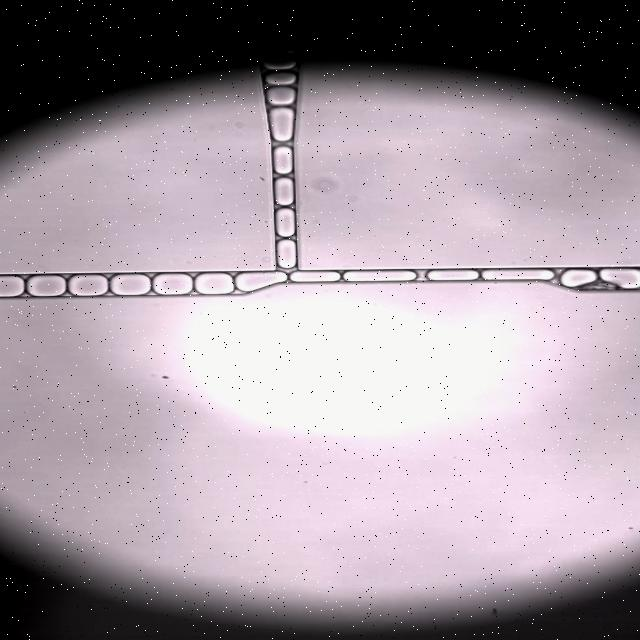L: (268, 107, 295, 141), (560, 270, 596, 288), (426, 270, 478, 281), (265, 87, 295, 106), (273, 146, 293, 174), (275, 209, 295, 237), (290, 271, 340, 282), (277, 240, 296, 268), (275, 178, 293, 206), (265, 71, 296, 85), (262, 61, 296, 70)
S: (235, 272, 286, 292), (68, 274, 108, 296), (110, 274, 150, 295), (26, 275, 66, 296), (600, 269, 640, 289), (195, 273, 233, 294), (154, 274, 192, 295), (482, 269, 553, 280), (344, 271, 416, 281), (0, 276, 24, 297)
